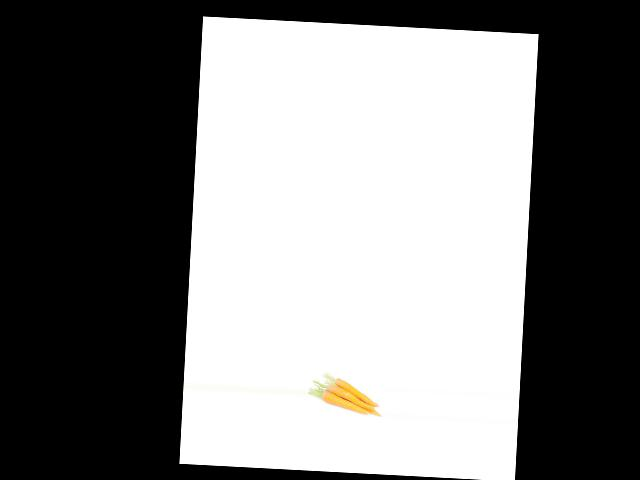carrot: (316, 391, 370, 417)
